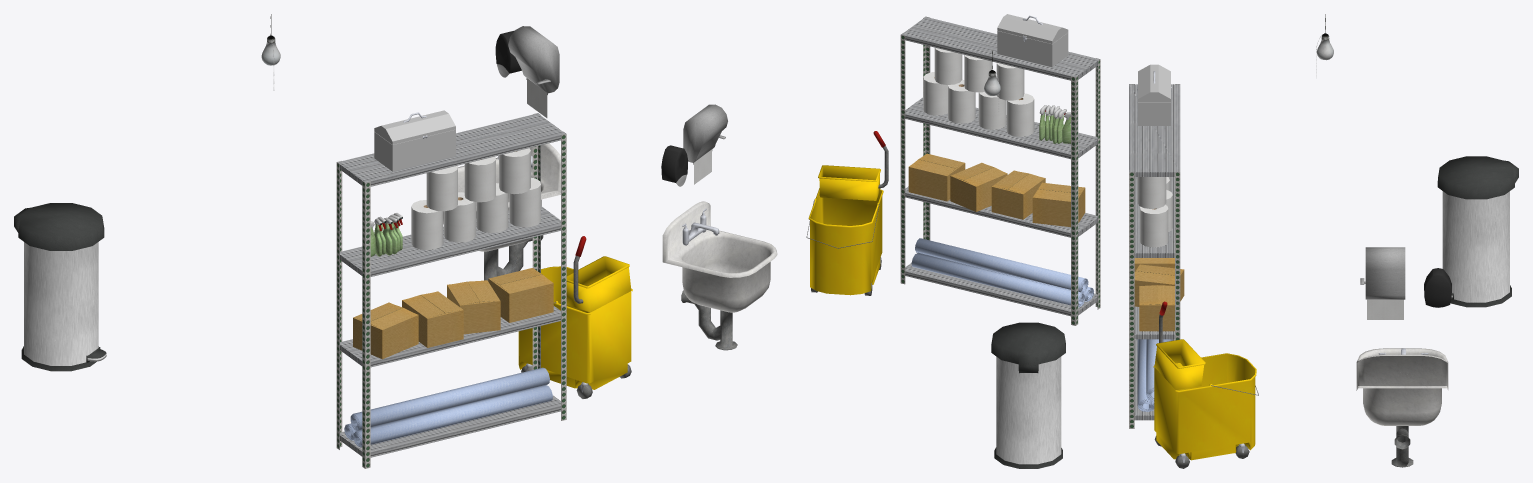
Rendered from storageCloset.fbx.
3 renders of one model, left to right at view 1: azimuth 30°, elevation 25°; view 2: azimuth 150°, elevation 25°; view 3: azimuth 270°, elevation 25°, orthographic. The views are drawn at different scales.
Parts seen in each view (by area): view 1: Box004, Box002, Cylinder005, Box005, go_toolbox, stepTrashCan, Helix003, Helix001, case (×2), go_cardboardBox, go_cardboardBox003, go_cardboardBox002 (+10 smaller); view 2: Box004, Box002, sinkBody, Cylinder005, Box005, go_toolbox, stepTrashCan, Helix003, case (×2), Helix002, go_cardboardBox, go_cardboardBox002 (+11 smaller); view 3: Box002, Cylinder005, sinkBody, Box004, case (×2), stepTrashCan, Box005, go_toolbox, go_cardboardBox, go_paperTowelRoll003, go_cardboardBox001, go_paperTowelRoll006 (+4 smaller).
Boxes of the visible parts, x1,y1,x2,y2 form: Box004: (337, 113, 565, 457); Box002: (518, 256, 632, 389); Cylinder005: (21, 242, 98, 371); Box005: (336, 113, 566, 468); go_toolbox: (374, 110, 455, 171); stepTrashCan: (14, 203, 104, 250); Helix003: (350, 367, 549, 430); Helix001: (353, 385, 552, 447); case (×2): (495, 26, 559, 94); go_cardboardBox: (488, 268, 553, 322); go_cardboardBox003: (353, 302, 418, 359); go_cardboardBox002: (402, 291, 463, 347); Box004: (902, 17, 1099, 316); Box002: (808, 165, 883, 295); sinkBody: (662, 201, 777, 312); Cylinder005: (994, 356, 1062, 468); Box005: (900, 16, 1100, 325); go_toolbox: (997, 14, 1068, 67); stepTrashCan: (991, 322, 1065, 373); Helix003: (915, 238, 1088, 293); case (×2): (661, 104, 727, 186); Helix002: (911, 253, 1084, 307); go_cardboardBox: (908, 153, 965, 201); go_cardboardBox002: (991, 170, 1045, 219); Box002: (1153, 339, 1256, 460); Cylinder005: (1442, 191, 1511, 307); sinkBody: (1356, 348, 1448, 425); Box004: (1129, 84, 1180, 420); case (×2): (1365, 247, 1451, 307); stepTrashCan: (1437, 156, 1518, 199); Box005: (1129, 84, 1180, 428); go_toolbox: (1137, 64, 1171, 125); go_cardboardBox: (1139, 285, 1174, 331); go_paperTowelRoll003: (1140, 204, 1168, 247); go_cardboardBox001: (1134, 264, 1184, 306); go_paperTowelRoll006: (1137, 177, 1166, 208).
Bounding box in the file's own units: 3.74 × 2.81 × 2.97.
